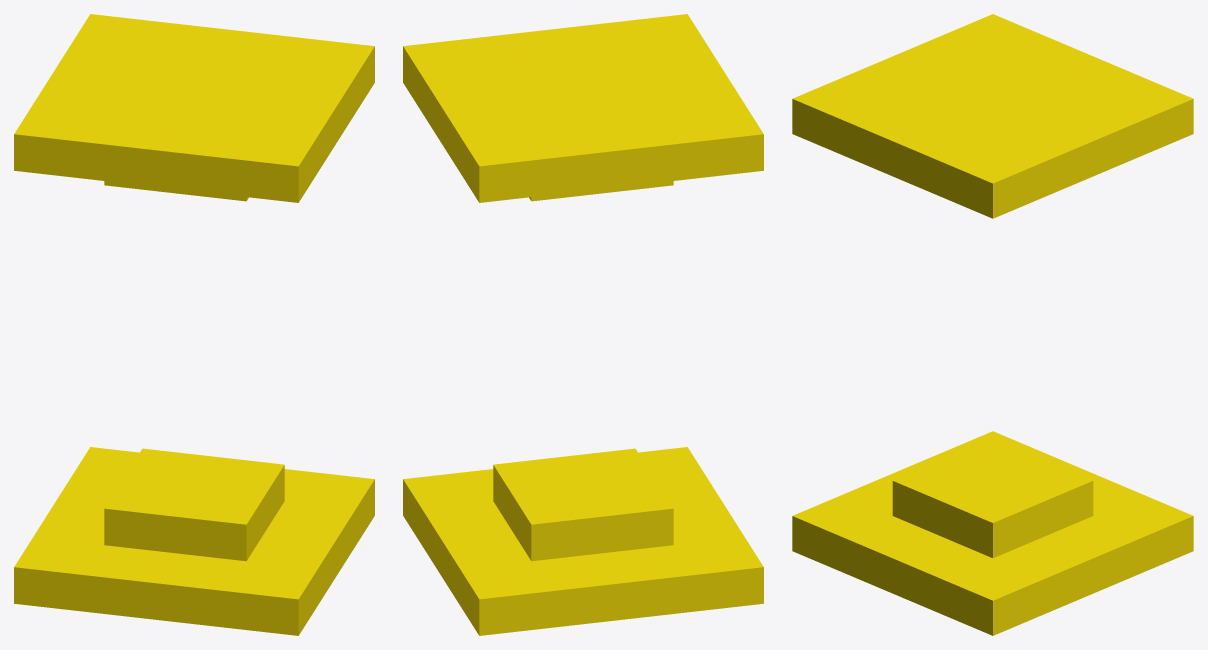
Rendered from EB_chamber_exit.glb.
3 views of the same model, side by side, from view 1: azimuth 30°, elevation 25°; view 2: azimuth 150°, elevation 25°; view 3: azimuth 270°, elevation 25° (orthographic). The views are drawn at different scales.
Parts seen in each view (by area): view 1: exit_3, exit_1, exit_2, exit_4; view 2: exit_3, exit_1, exit_2, exit_4; view 3: exit_3, exit_1, exit_2.
Part boxes in pixels (left/top/right/bottom): exit_3: left=14, top=14, right=374, bottom=202; exit_1: left=14, top=447, right=374, bottom=635; exit_2: left=104, top=448, right=284, bottom=561; exit_4: left=104, top=181, right=248, bottom=201; exit_3: left=403, top=14, right=763, bottom=202; exit_1: left=403, top=447, right=763, bottom=635; exit_2: left=493, top=448, right=673, bottom=561; exit_4: left=529, top=181, right=673, bottom=201; exit_3: left=792, top=14, right=1193, bottom=218; exit_1: left=792, top=431, right=1193, bottom=635; exit_2: left=892, top=438, right=1093, bottom=557.
Size of the model in its own units: 1.03 by 1.28 by 1.03.
